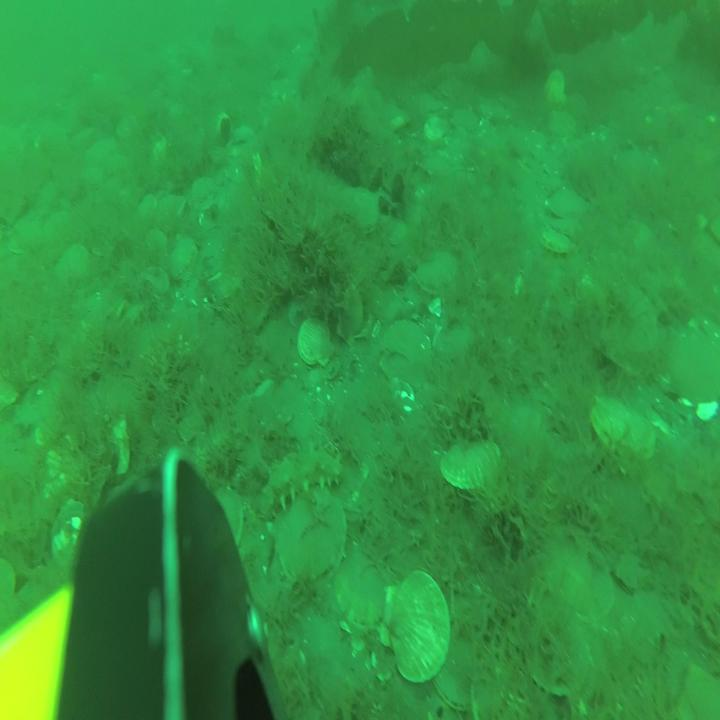holothurian: (260, 448, 327, 518)
scallop: (386, 567, 451, 690), (543, 521, 613, 626), (525, 598, 590, 698), (281, 490, 341, 588), (592, 278, 653, 372), (334, 545, 389, 639), (670, 318, 720, 416), (592, 389, 654, 468), (436, 622, 485, 714), (623, 590, 676, 666), (444, 436, 502, 499), (296, 316, 334, 371), (418, 246, 456, 298), (342, 185, 378, 239), (330, 288, 364, 345), (52, 504, 86, 559), (167, 231, 196, 284), (55, 242, 87, 290), (546, 185, 584, 225), (143, 268, 172, 307), (550, 112, 578, 146), (544, 232, 571, 264), (545, 68, 567, 106), (553, 216, 579, 247)
